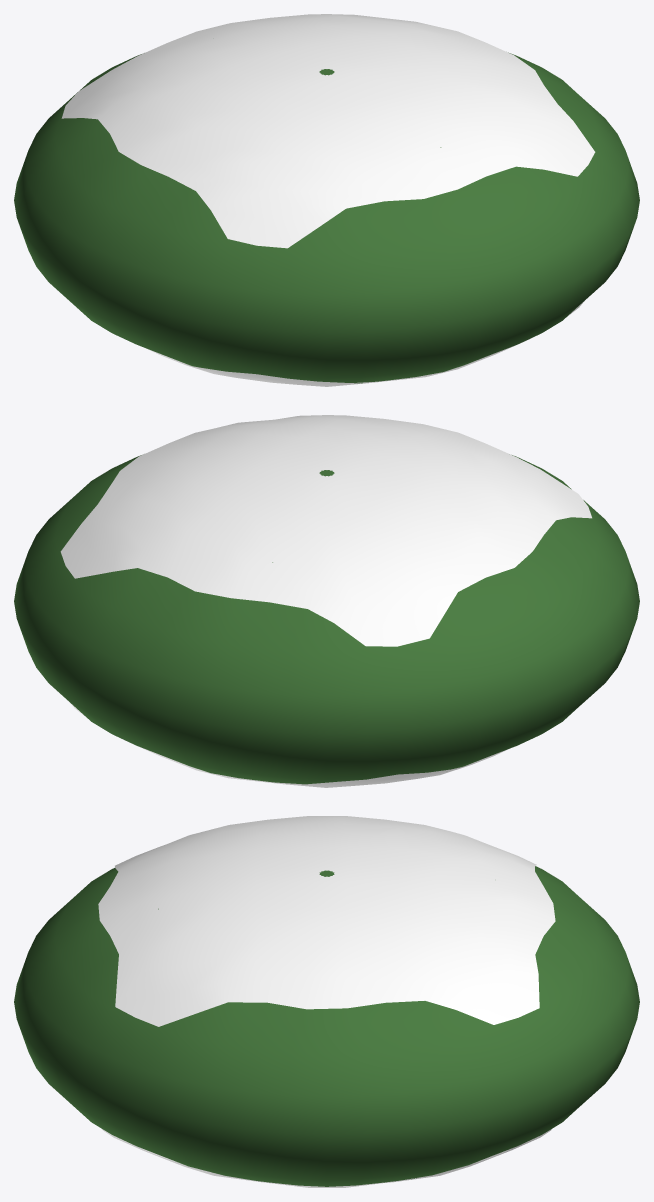
Rendered from yy巧克力_綠色.glb.
3 renders of one model, top to bottom at view 1: azimuth 30°, elevation 25°; view 2: azimuth 150°, elevation 25°; view 3: azimuth 270°, elevation 25°, orthographic.
Visible parts, largest first — view 1: Cube, y, y.001; view 2: Cube, y, y.001; view 3: Cube, y, y.001.
Part boxes in pixels (<box>): Cube: <box>14,52,639,383</box>; y: <box>61,14,595,248</box>; y.001: <box>146,301,584,386</box>; Cube: <box>14,455,639,784</box>; y: <box>60,415,591,646</box>; y.001: <box>68,701,507,787</box>; Cube: <box>14,866,639,1186</box>; y: <box>98,816,555,1026</box>; y.001: <box>102,1129,551,1187</box>.
Bounding box in the file's own units: 3.39 × 1.54 × 3.39.
2 materials, 1 textured.
